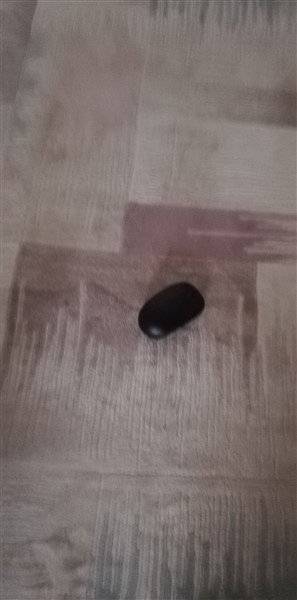mouse: (137, 279, 209, 347)
